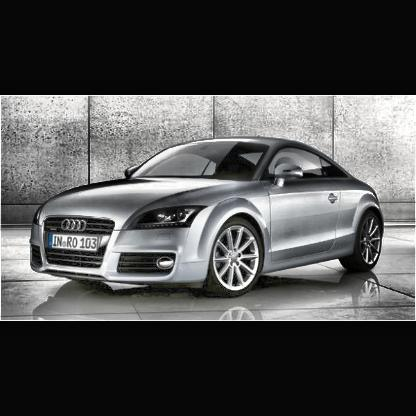Audi TTS Coupe 2012: (31, 138, 385, 298)
